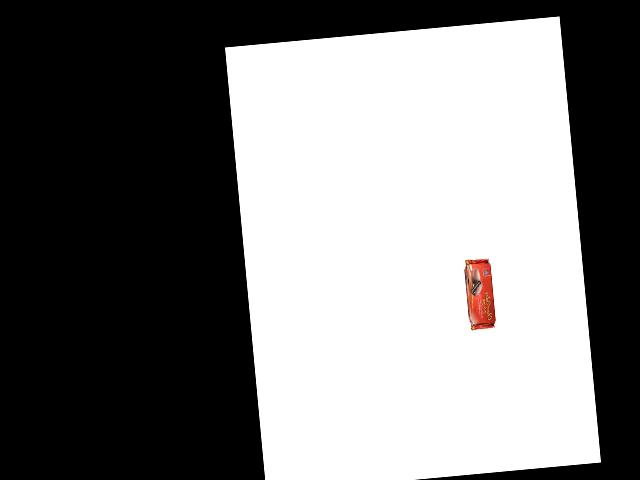chocolate: (456, 256, 496, 331)
